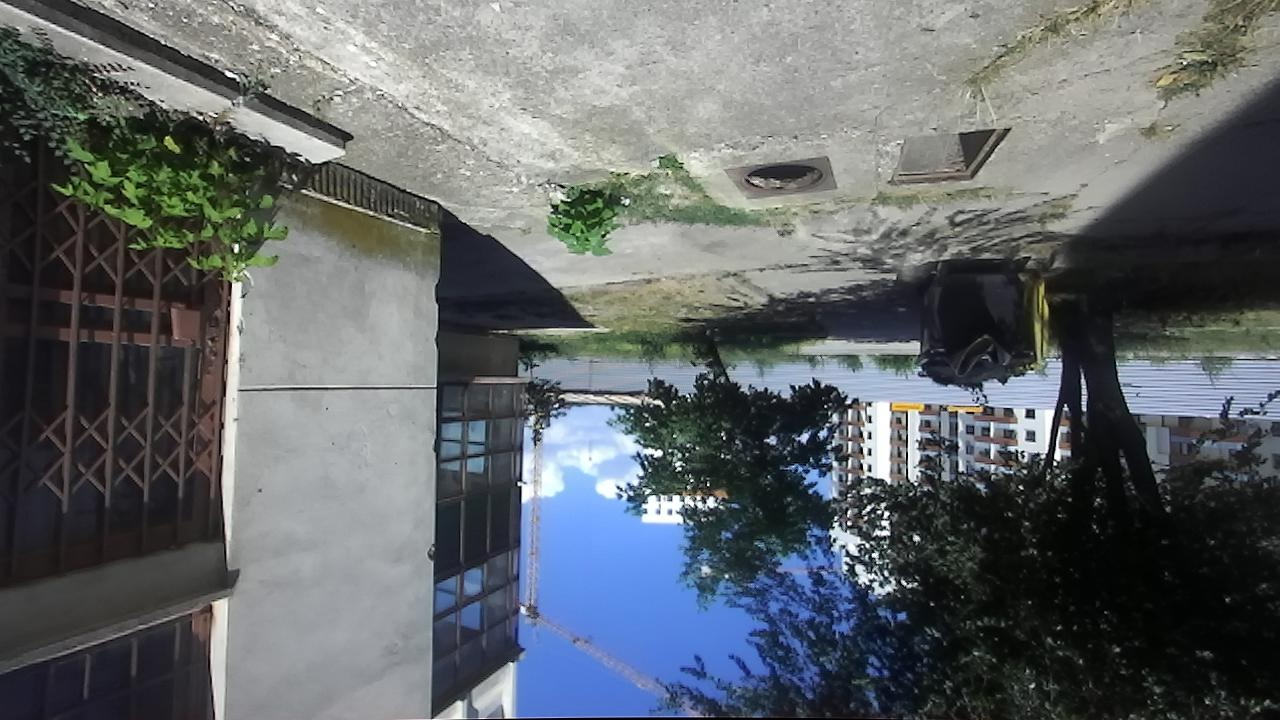drain: (886, 122, 1016, 189), (741, 158, 829, 199)
